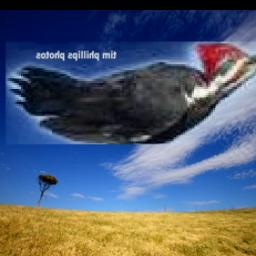Woodpecker: (6, 42, 256, 144)
